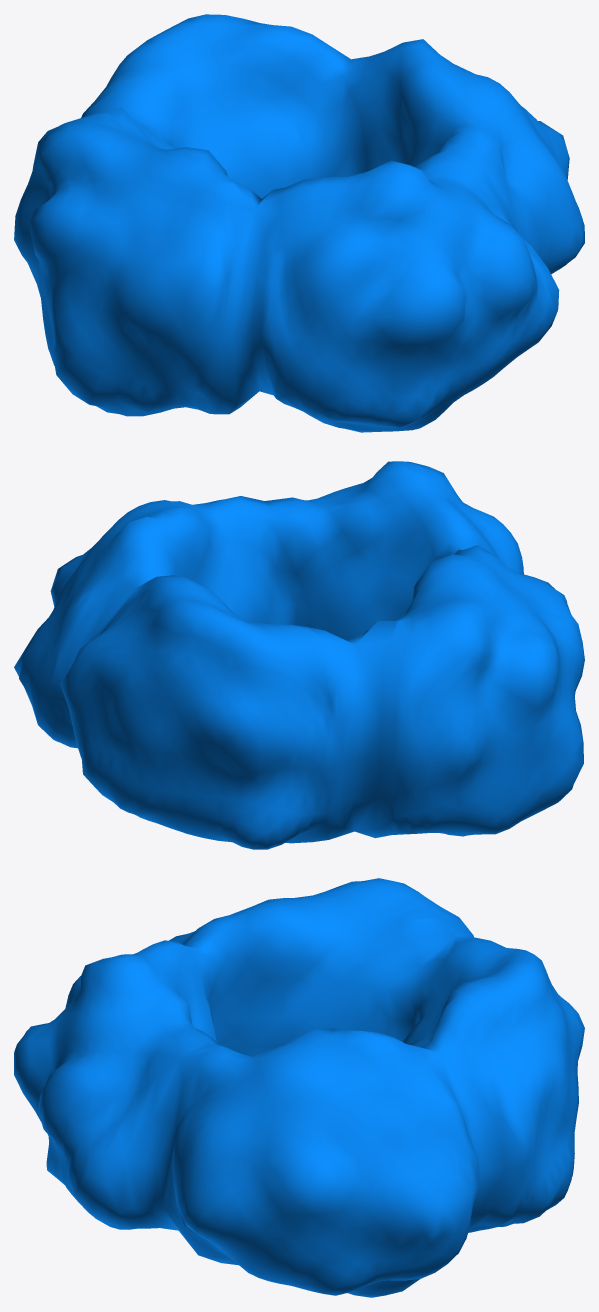
Rendered from DNA_repair.fbx.
The picture shows the model from 3 angles, top to bottom: view 1: azimuth 30°, elevation 25°; view 2: azimuth 150°, elevation 25°; view 3: azimuth 270°, elevation 25°; orthographic projection. The views are drawn at different scales.
Parts seen in each view (by area): view 1: Cube; view 2: Cube; view 3: Cube.
Boxes of the visible parts, <box> form: Cube: <box>14,14,584,432</box>; Cube: <box>14,461,584,849</box>; Cube: <box>14,878,584,1297</box>.
Bounding box in the file's own units: 4.42 × 2.21 × 4.23.
